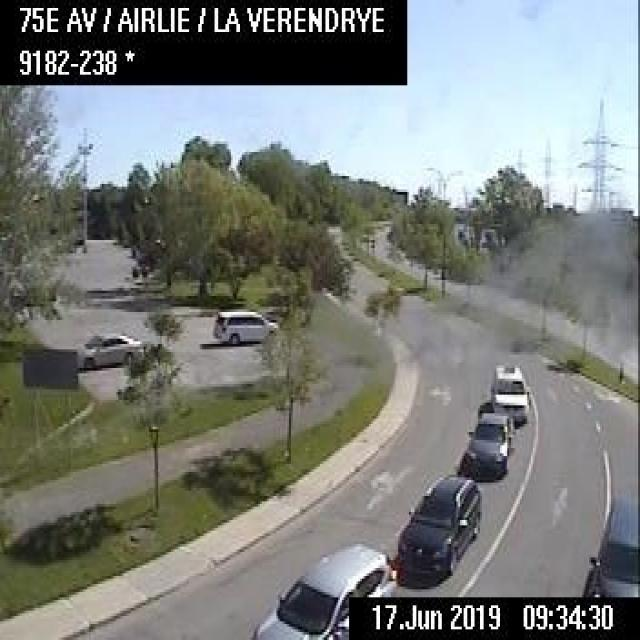vehicle: (251, 542, 398, 637), (393, 471, 481, 586), (575, 482, 638, 594), (458, 409, 511, 479), (72, 329, 142, 369), (490, 358, 528, 422), (212, 308, 277, 343)
